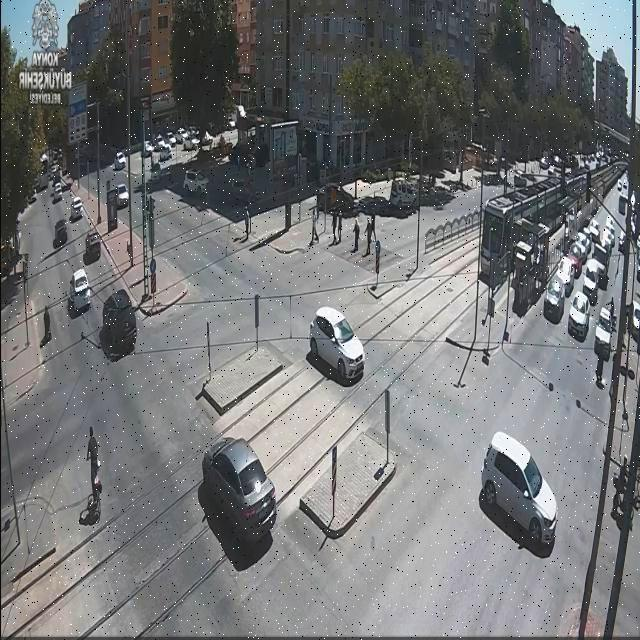Car: (198, 435, 280, 547), (479, 432, 556, 548), (308, 306, 366, 382), (101, 292, 137, 359), (568, 292, 590, 340), (595, 304, 615, 356), (544, 277, 565, 322), (69, 268, 91, 310), (583, 258, 605, 300), (357, 195, 399, 217), (416, 184, 454, 208), (389, 179, 417, 211), (553, 256, 575, 296), (570, 234, 591, 266), (183, 170, 209, 194), (625, 300, 640, 340), (564, 252, 583, 280), (84, 232, 102, 260), (146, 164, 168, 186), (600, 226, 616, 253), (112, 183, 129, 208), (53, 220, 68, 248), (592, 241, 608, 267), (578, 220, 594, 242), (586, 218, 600, 241), (70, 198, 84, 220), (618, 228, 628, 253), (113, 152, 126, 170), (158, 146, 172, 162), (562, 156, 578, 170), (183, 137, 197, 151), (153, 138, 167, 151), (557, 164, 572, 176), (513, 175, 527, 187), (165, 132, 177, 146), (551, 155, 563, 168), (538, 157, 550, 169), (187, 126, 199, 138), (173, 130, 184, 143), (144, 141, 154, 155), (547, 163, 557, 175), (226, 118, 236, 129)
